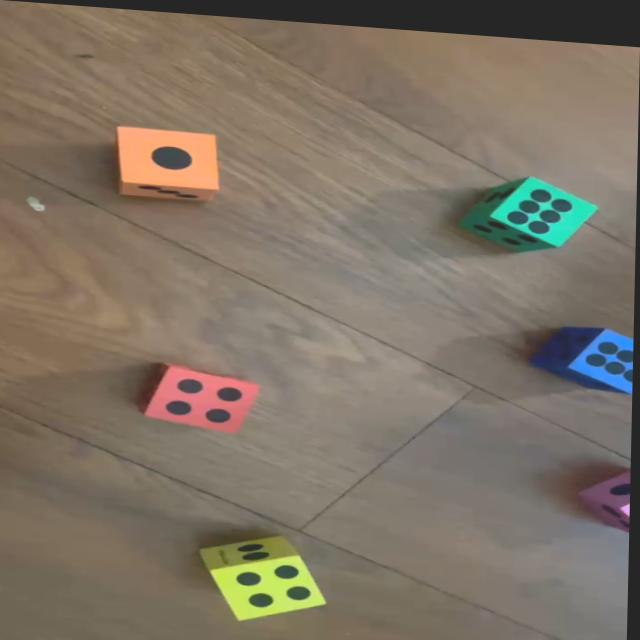blue_block: (532, 313, 635, 383)
red_block: (139, 358, 264, 430)
